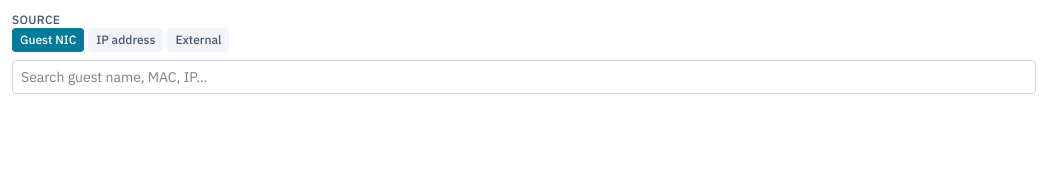
Test: EndpointPicker › shows subnet context for a typed IP
The image size is (1048, 172).
Click the radio button labelled "IP address".
click(126, 40)  # box [88, 28, 163, 52]
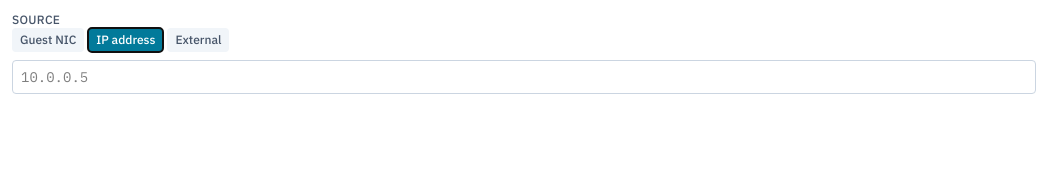
Type "10.100.0.5" into the field named "Source IP address".
click(524, 77); type("10.100.0.5")  # box [12, 60, 1036, 94]
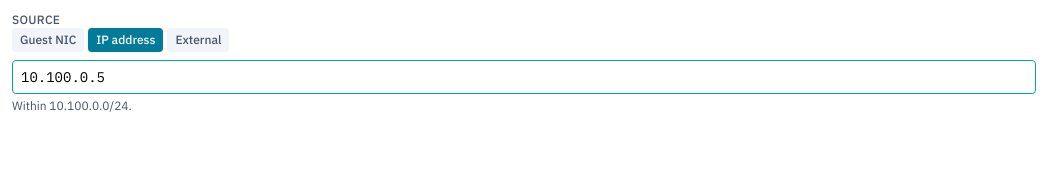
Expected: the text "Within 10.100.0.0/24." is shown, [12, 98, 132, 113]
